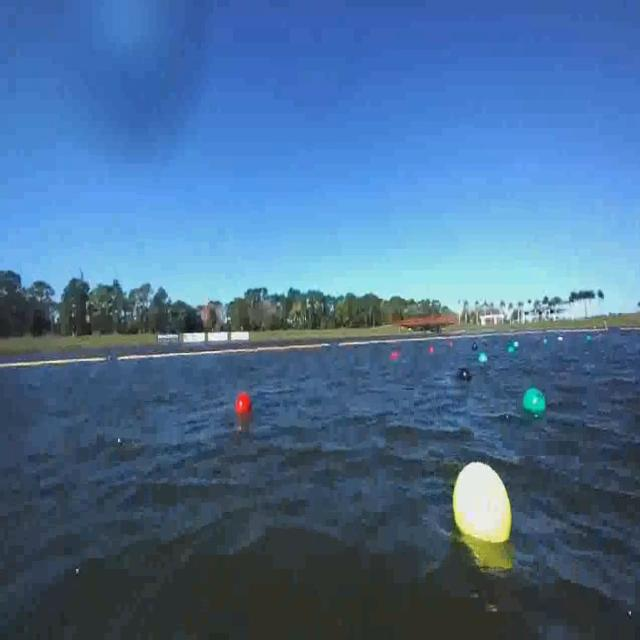black-buoy: (457, 368, 472, 383)
green-buoy: (524, 389, 549, 419)
red-buoy: (234, 394, 250, 420)
yellow-buoy: (450, 458, 516, 550)
